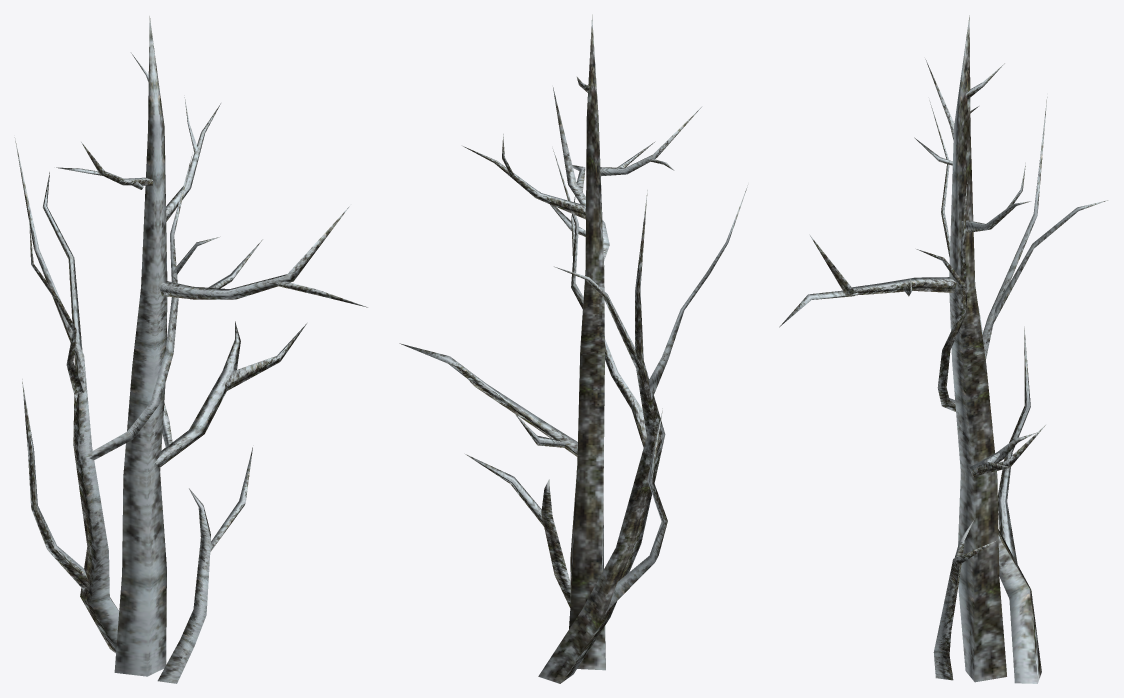
The model's file is S_Tree_White012.FBX.
3 renders of one model, left to right at view 1: azimuth 30°, elevation 25°; view 2: azimuth 150°, elevation 25°; view 3: azimuth 270°, elevation 25°, orthographic. The views are drawn at different scales.
Parts seen in each view (by area): view 1: S_Tree_White012; view 2: S_Tree_White012; view 3: S_Tree_White012.
Part boxes in pixels (x1,y1,x2,y2): S_Tree_White012: (14,16,367,683); S_Tree_White012: (399,14,747,683); S_Tree_White012: (779,15,1108,683).
Bounding box in the file's own units: 432 × 388 × 852.
